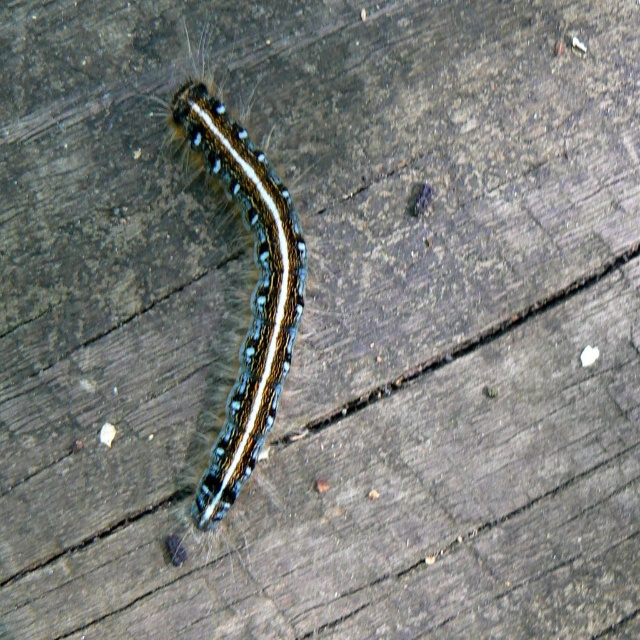Centipede: (168, 19, 332, 600)
